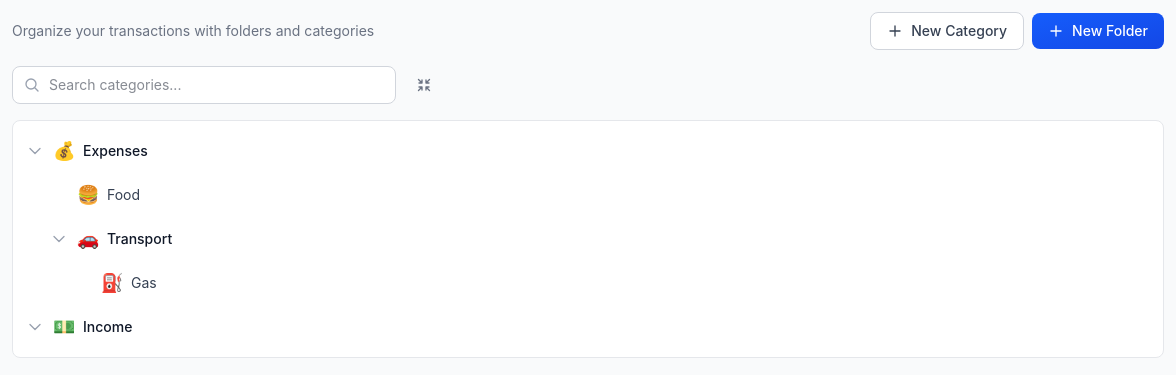
Test case: CategoriesTab › expand/collapse toggle › should expand all folders when clicking expand button
Expected: the text "Food" is shown, x1=107 y1=186 x2=140 y2=203
# First collapse all
Click the button titled "Collapse All".
click(424, 85)  # box x1=408 y1=69 x2=440 y2=101
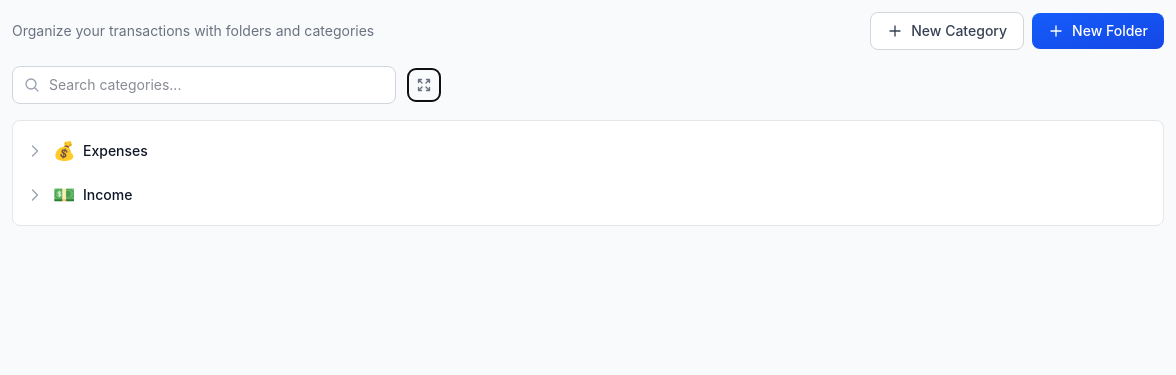
Now the text "Food" is gone
# click expand button
Click the button titled "Expand All".
click(424, 85)  # box x1=408 y1=69 x2=440 y2=101
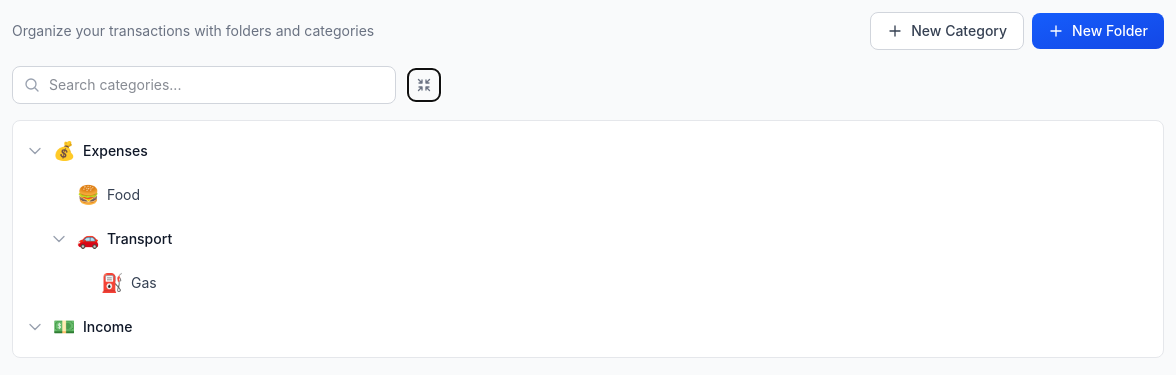
Now the text "Food" is shown, box x1=107 y1=186 x2=140 y2=203
Now the text "Gas" is shown, box x1=131 y1=274 x2=157 y2=291
